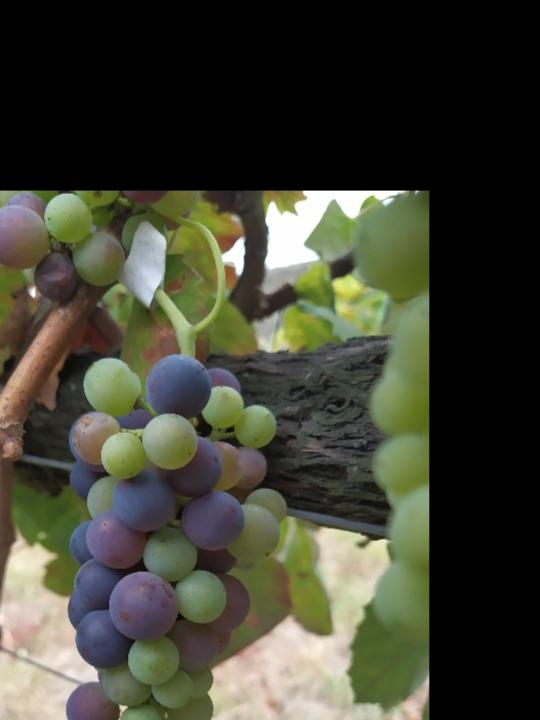grape: (63, 353, 289, 720)
